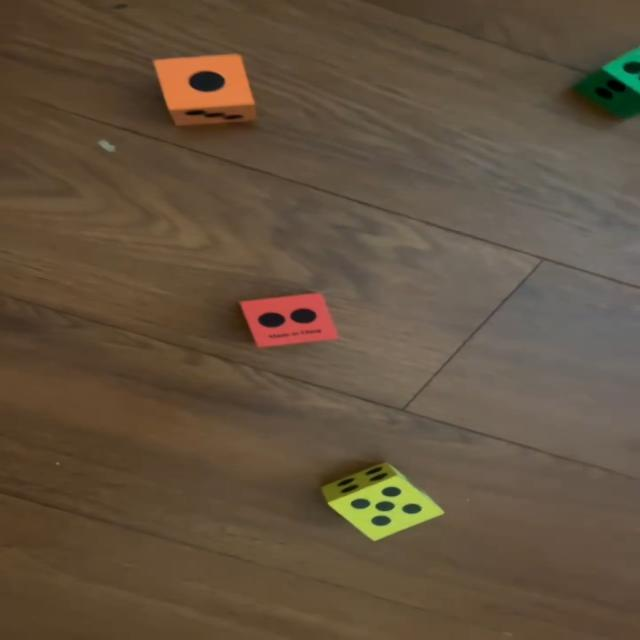red_block: (242, 292, 339, 347)
